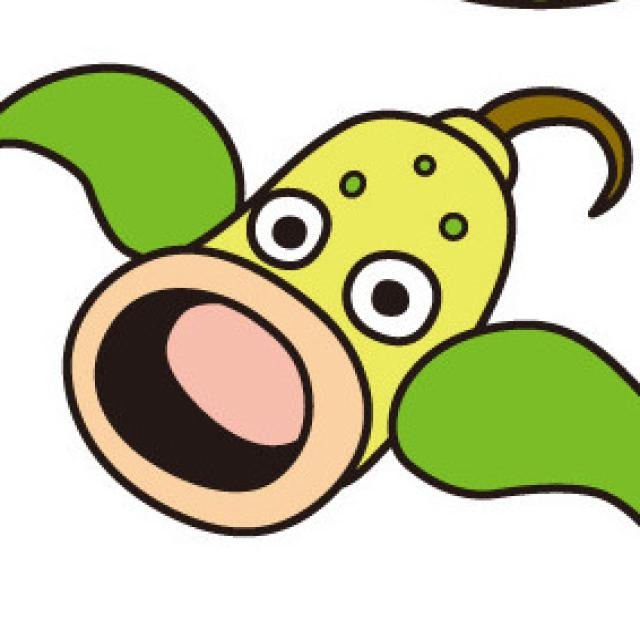Weepinbell: (62, 102, 532, 530)
